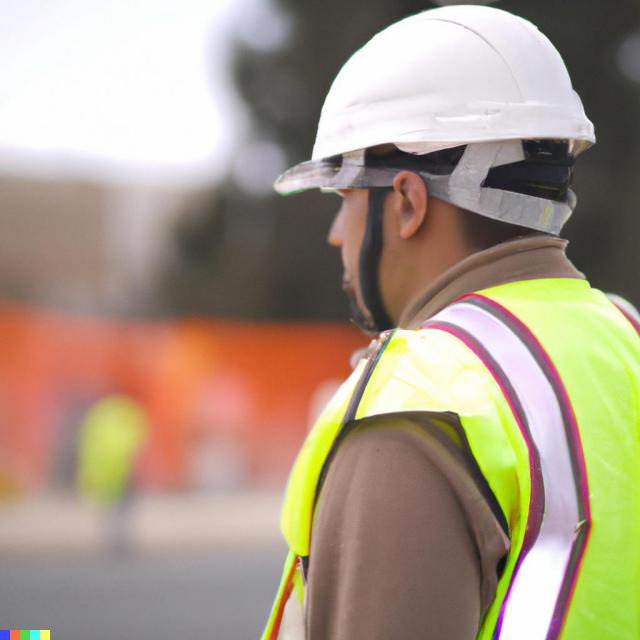Reflective-Jacket: (262, 264, 640, 640)
Safety-Helmet: (275, 3, 603, 188)
